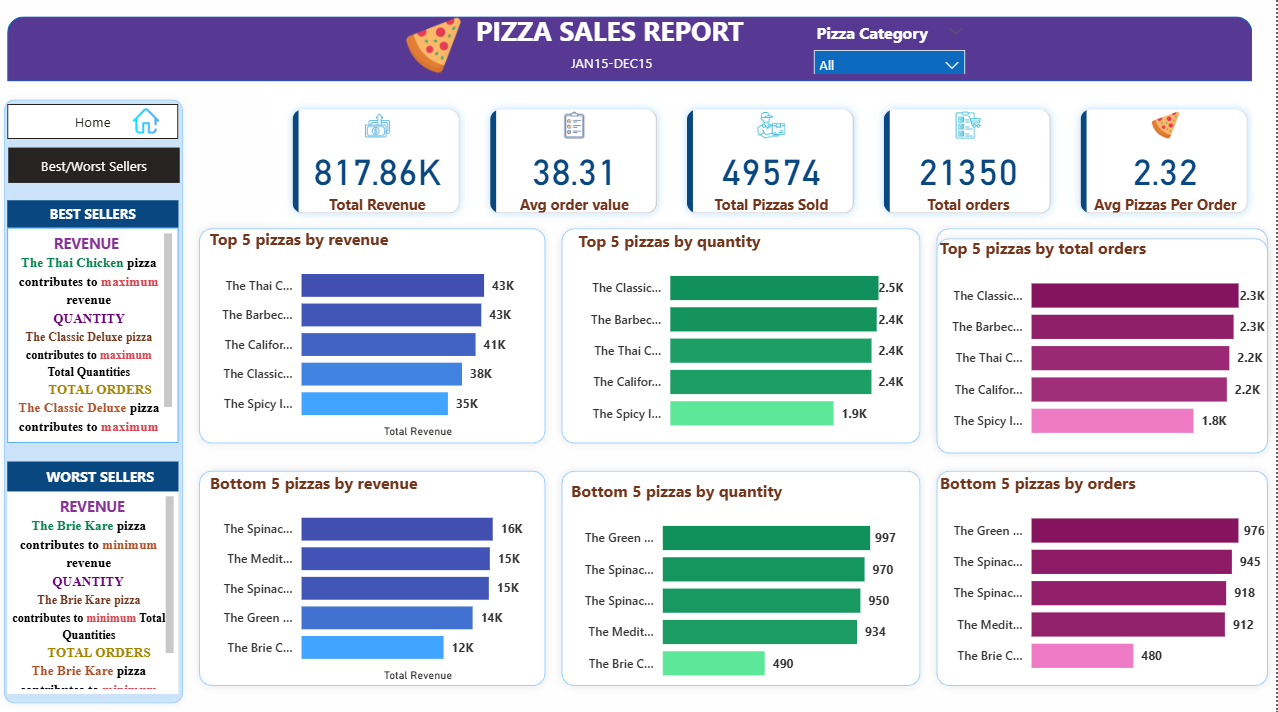

The page's visual inventory and layout, read from the dashboard file:
{"tool":"powerbi","page":{"name":"Best/Worst Sellers","canvas":[1280,720],"ordinal":1},"visuals":[{"type":"cardVisual","fields":{"Data":["pizza_sales.Total Revenue","pizza_sales.Avg order value","pizza_sales.Total Pizzas Sold","pizza_sales.Total orders","pizza_sales.Avg Pizzas Per Order"]},"box":[268.8,82.5,1011.2,160],"z":0},{"type":"shape","box":[11.2,17.5,1245,65],"z":1000},{"type":"textbox","box":[420,8.8,387.5,60],"z":2000},{"type":"textbox","box":[21.2,506.2,161.2,32.5],"z":3000},{"type":"textbox","box":[570,50,101.2,32.5],"z":4000},{"type":"shape","box":[195,221.2,362.5,231.2],"z":5000},{"type":"shape","box":[0,92.5,195,620],"z":6000},{"type":"textbox","box":[11.2,201.2,171.2,30],"z":7000},{"type":"textbox","box":[11.2,228.8,171.2,215],"z":8000},{"type":"textbox","box":[11.2,462.5,171.2,30],"z":9000},{"type":"textbox","box":[11.2,492.5,171.2,202.5],"z":10000},{"type":"slicer","fields":{"Values":["pizza_sales.pizza_category"]},"box":[807.5,17.5,171.2,57.5],"z":11000},{"type":"shape","box":[557.5,221.2,375,231.2],"z":12000},{"type":"shape","box":[932.5,221.2,347.5,231.2],"z":13000},{"type":"shape","box":[195,463.8,362.5,231.2],"z":14000},{"type":"shape","box":[557.5,463.8,375,231.2],"z":15000},{"type":"shape","box":[932.5,463.8,347.5,231.2],"z":16000},{"type":"barChart","title":"Top 5 pizzas by revenue","fields":{"Category":["pizza_sales.pizza_name"],"Y":["pizza_sales.Total Revenue"]},"box":[208.8,228.8,335,215],"z":17000},{"type":"shape","box":[932.5,231.2,347.5,231.2],"z":18000},{"type":"barChart","title":"Bottom 5 pizzas by revenue","fields":{"Category":["pizza_sales.pizza_name"],"Y":["pizza_sales.Total Revenue"]},"box":[208.8,472.5,335,215],"z":19000},{"type":"barChart","title":"Top 5 pizzas by quantity","fields":{"Category":["pizza_sales.pizza_name"],"Y":["pizza_sales.Total Pizzas Sold"]},"box":[577.5,230,335,215],"z":20000},{"type":"barChart","title":"Bottom 5 pizzas by quantity","fields":{"Category":["pizza_sales.pizza_name"],"Y":["pizza_sales.Total Pizzas Sold"]},"box":[570,480,335,215],"z":21000},{"type":"barChart","title":"Top 5 pizzas by total orders","fields":{"Category":["pizza_sales.pizza_name"],"Y":["pizza_sales.Total orders"]},"box":[938.8,237.5,335,215],"z":22000},{"type":"barChart","title":"Bottom 5 pizzas by orders","fields":{"Category":["pizza_sales.pizza_name"],"Y":["pizza_sales.Total orders"]},"box":[938.8,472.5,335,215],"z":23000},{"type":"pageNavigator","box":[12.5,148.8,171.2,35],"z":24000},{"type":"pageNavigator","box":[11.2,105,171.2,35],"z":25000},{"type":"image","box":[0,108.8,300,26.2],"z":26000},{"type":"image","box":[287.5,17.5,300,57.5],"z":26001}]}

Visuals, with their boxes in screenshot pixels (x1, y1, x2, y2), scaled from the page's 1280x720 canvas onto the 1278x712 screenshot:
cardVisual - pizza_sales.Total Revenue x pizza_sales.Avg order value: bbox=(268, 82, 1277, 240)
shape: bbox=(11, 17, 1254, 82)
textbox: bbox=(419, 9, 806, 68)
textbox: bbox=(21, 501, 182, 533)
textbox: bbox=(569, 49, 670, 82)
shape: bbox=(195, 219, 557, 447)
shape: bbox=(0, 91, 195, 705)
textbox: bbox=(11, 199, 182, 229)
textbox: bbox=(11, 226, 182, 439)
textbox: bbox=(11, 457, 182, 487)
textbox: bbox=(11, 487, 182, 687)
slicer - pizza_sales.pizza_category: bbox=(806, 17, 977, 74)
shape: bbox=(557, 219, 931, 447)
shape: bbox=(931, 219, 1277, 447)
shape: bbox=(195, 459, 557, 687)
shape: bbox=(557, 459, 931, 687)
shape: bbox=(931, 459, 1277, 687)
"Top 5 pizzas by revenue" barChart: bbox=(208, 226, 543, 439)
shape: bbox=(931, 229, 1277, 457)
"Bottom 5 pizzas by revenue" barChart: bbox=(208, 467, 543, 680)
"Top 5 pizzas by quantity" barChart: bbox=(577, 227, 911, 440)
"Bottom 5 pizzas by quantity" barChart: bbox=(569, 475, 904, 687)
"Top 5 pizzas by total orders" barChart: bbox=(937, 235, 1272, 447)
"Bottom 5 pizzas by orders" barChart: bbox=(937, 467, 1272, 680)
pageNavigator: bbox=(12, 147, 183, 182)
pageNavigator: bbox=(11, 104, 182, 138)
image: bbox=(0, 108, 300, 134)
image: bbox=(287, 17, 587, 74)
